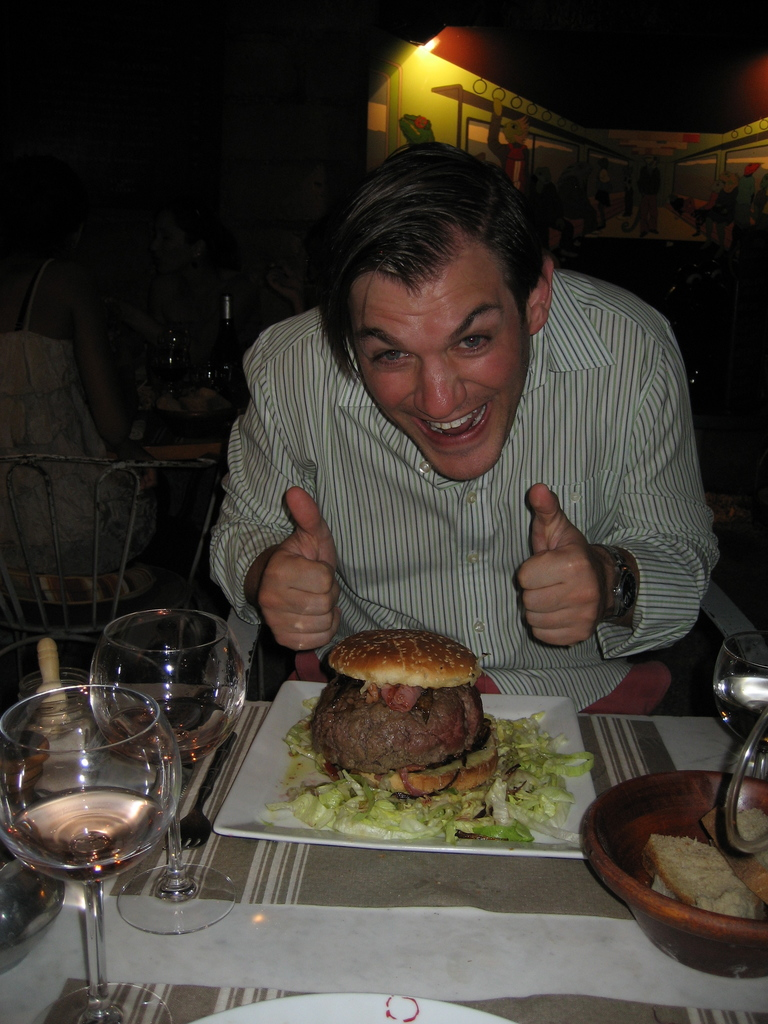Hamburger: (304, 623, 491, 796)
